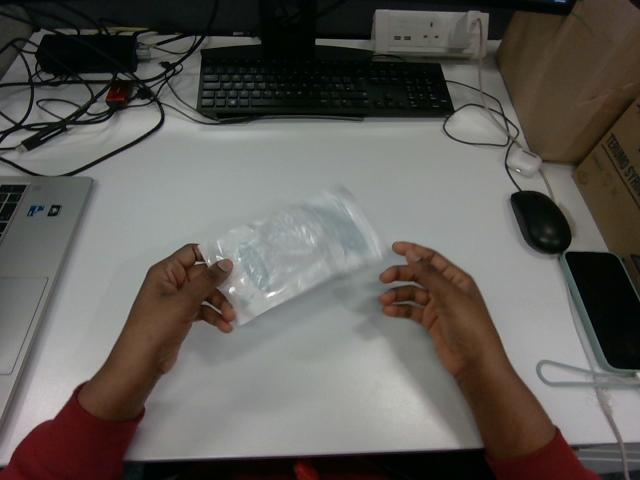gallipot: (199, 188, 381, 324)
